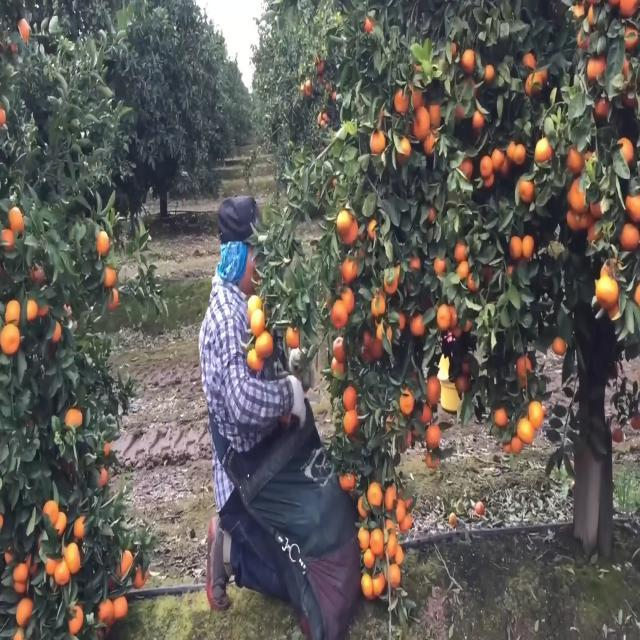Jeruk Sudah Matang: (514, 419, 539, 447), (412, 104, 430, 142), (64, 540, 84, 574), (526, 399, 546, 431), (63, 404, 85, 432), (424, 374, 442, 408), (1, 322, 20, 354), (8, 205, 27, 237), (330, 298, 348, 330), (342, 410, 362, 438), (334, 206, 352, 237), (368, 527, 386, 556), (255, 332, 275, 358), (98, 597, 114, 629), (16, 596, 34, 624), (368, 476, 383, 509), (393, 86, 410, 115), (426, 422, 443, 451), (394, 136, 412, 163), (74, 514, 92, 541), (521, 230, 536, 262), (436, 302, 452, 332), (342, 384, 358, 414), (341, 256, 358, 284), (42, 497, 59, 525), (67, 604, 84, 632), (102, 262, 119, 290), (285, 322, 302, 349), (461, 49, 479, 74), (478, 153, 494, 181), (113, 592, 129, 620), (369, 126, 386, 152), (250, 310, 267, 336), (339, 466, 357, 490), (4, 300, 22, 323), (452, 240, 469, 264), (50, 318, 64, 346), (120, 548, 134, 576), (521, 51, 538, 74), (96, 230, 111, 256), (411, 312, 426, 337), (360, 570, 373, 598), (481, 60, 497, 82), (512, 141, 526, 166), (510, 234, 522, 263), (14, 559, 28, 582), (552, 334, 566, 357), (358, 524, 371, 548), (472, 108, 486, 130), (434, 254, 448, 274), (496, 406, 508, 428)
